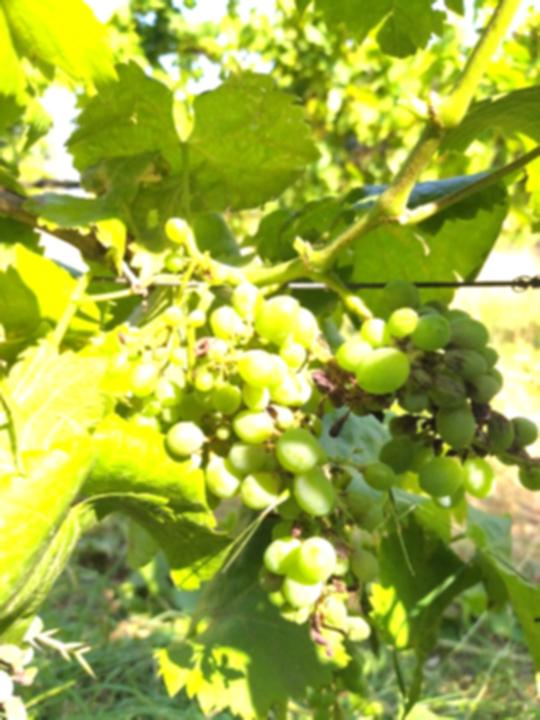grape: (103, 215, 395, 658), (334, 278, 540, 512)
